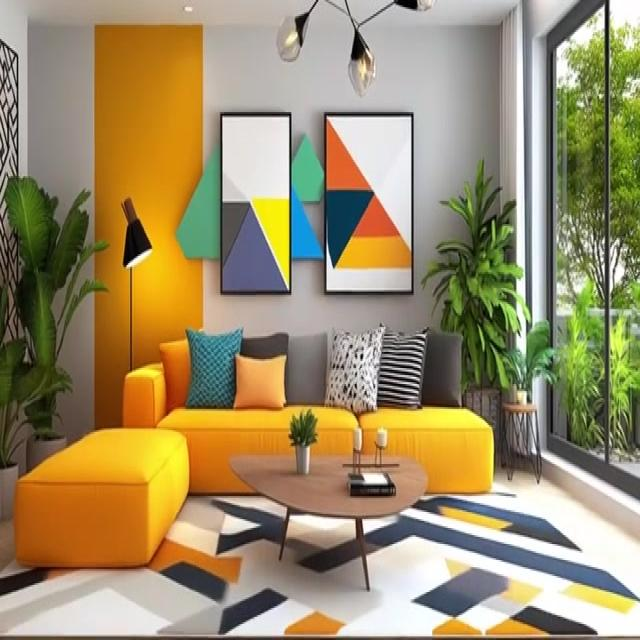obstacle: (121, 324, 495, 496), (229, 452, 428, 590)
